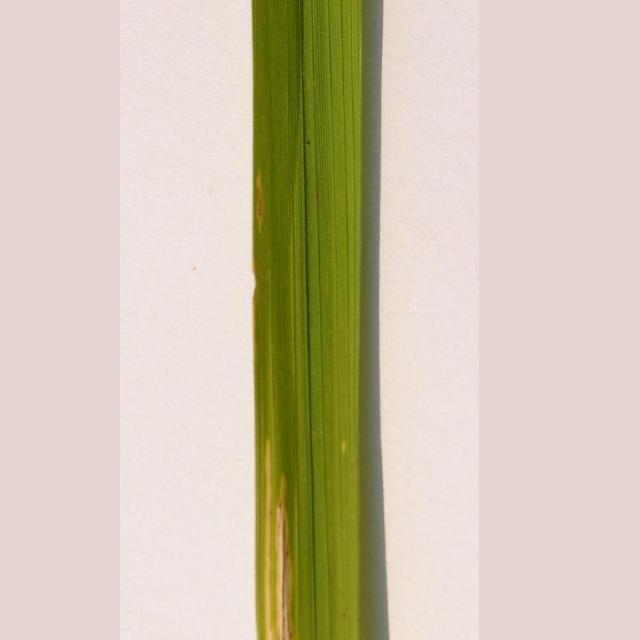leaf blight: (257, 424, 319, 640), (247, 154, 280, 294)
